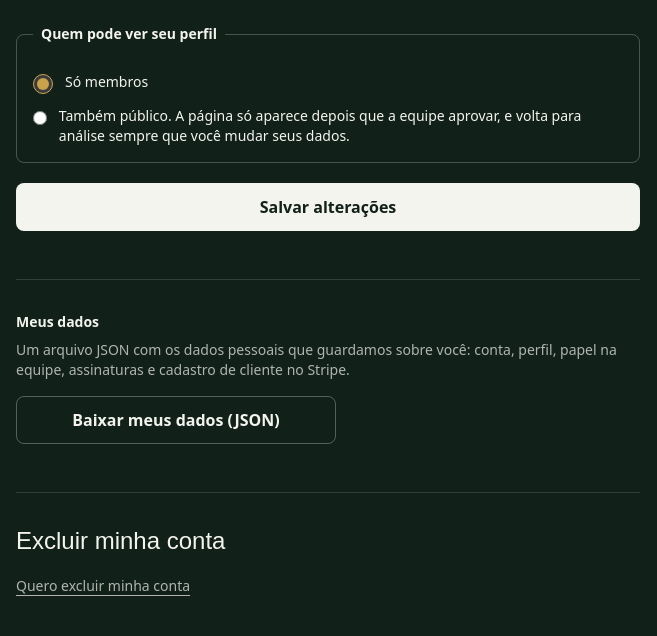
it: bloco Excluir minha conta › vem recolhido, e ao abrir avisa o que acontece
(page scrolled)
Expected: the button "Salvar alterações" is shown, [16, 183, 640, 231]
Expected: the button "excluir definitivamente" is not shown
Step 1. Click the button "Quero excluir minha conta" → coordinates (103, 586), box [16, 576, 190, 596]
(page scrolled)
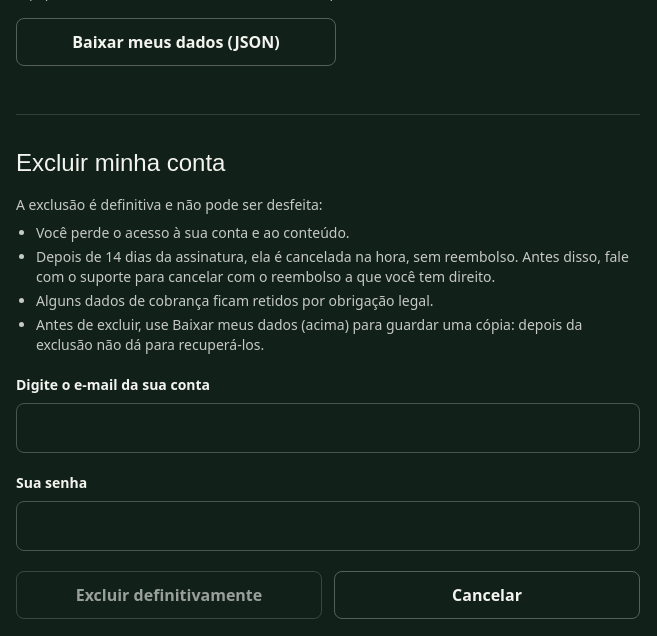
Expected: the list item "Depois de 14 dias da assinatura" is shown, [36, 247, 629, 286]
Expected: the list item "Alguns dados de cobrança ficam retidos por obrigação legal." is shown, [36, 291, 434, 310]
